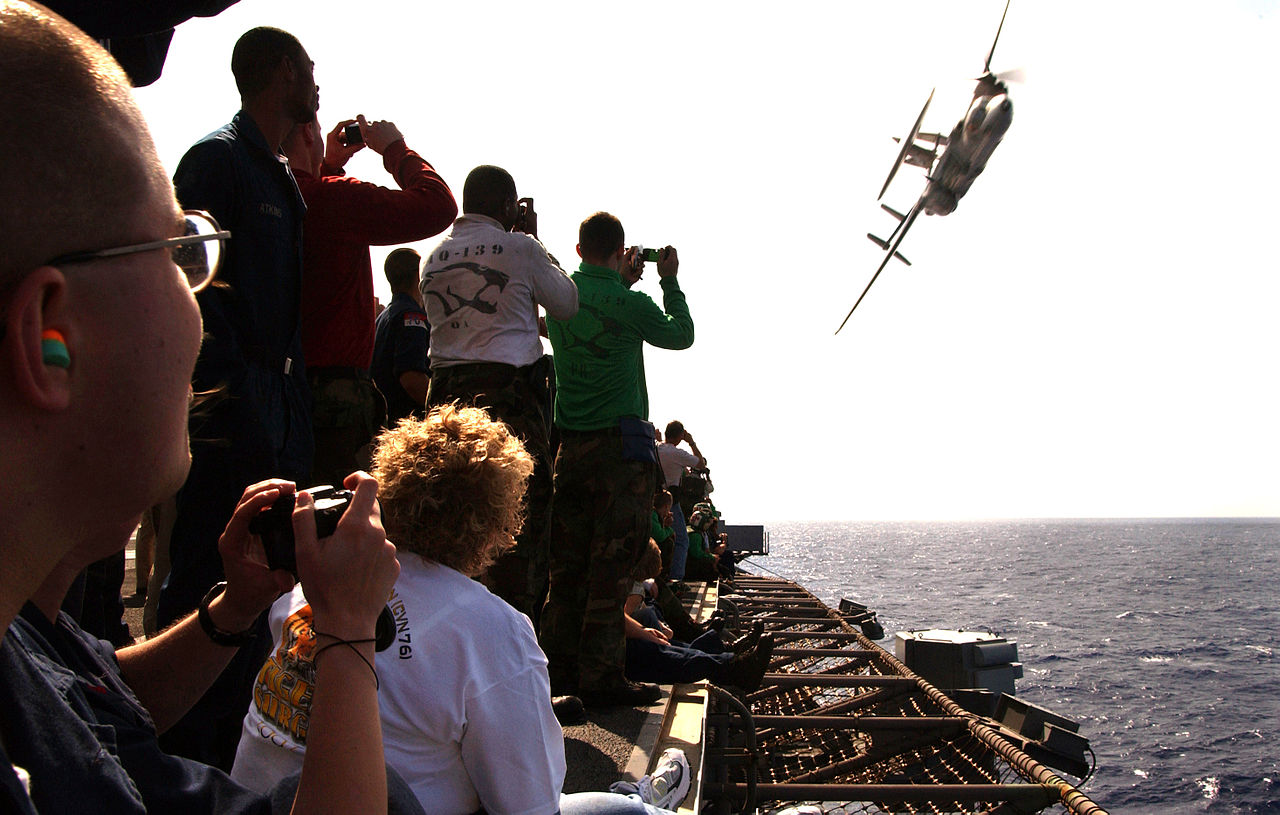E2: (834, 1, 1024, 335)
